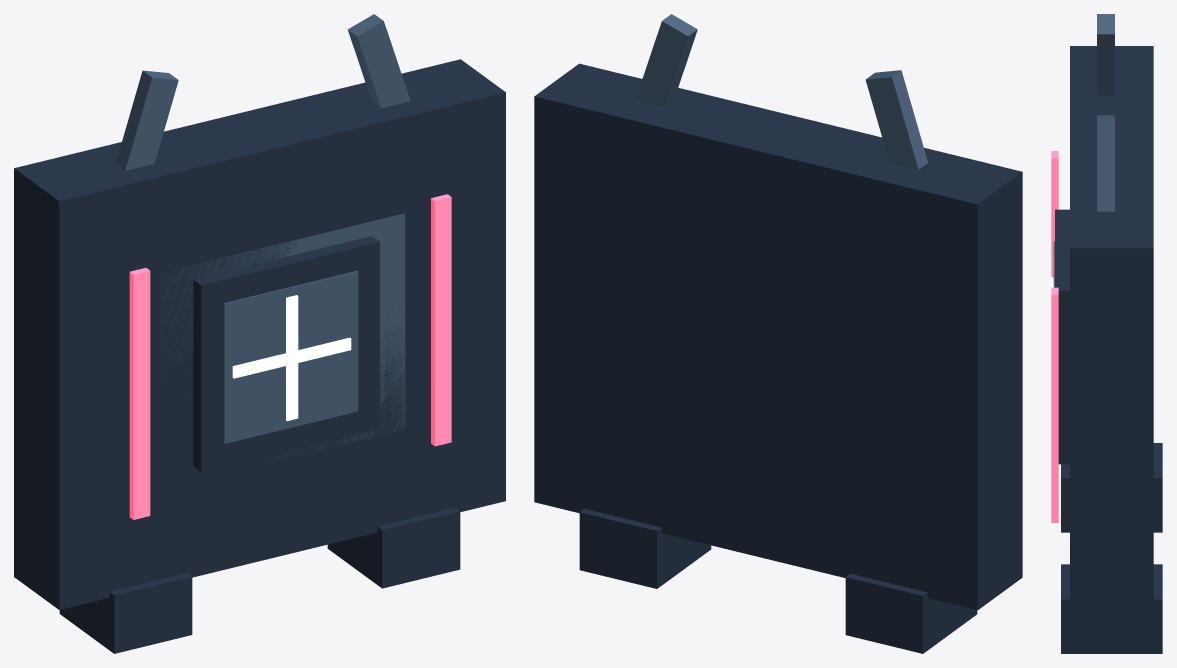
Rendered from dive_punch_wall.glb.
3 renders of one model, left to right at view 1: azimuth 30°, elevation 25°; view 2: azimuth 150°, elevation 25°; view 3: azimuth 270°, elevation 25°, orthographic. The views are drawn at different scales.
Visible parts, largest first — view 1: FRAME, TARGET_FRAME_OUTER, TARGET_FRAME_INNER, CENTER_BLOCK, FOOT_R, FOOT_L, EMISSIVE_BAR_LEFT, EMISSIVE_BAR_RIGHT, ANTENNA_L, ANTENNA_R, EMISSIVE_CROSS_H, EMISSIVE_CROSS_V; view 2: FRAME, FOOT_R, FOOT_L, ANTENNA_L, ANTENNA_R; view 3: FRAME, FOOT_R, TARGET_FRAME_OUTER, EMISSIVE_BAR_RIGHT, ANTENNA_R, FOOT_L, ANTENNA_L, EMISSIVE_BAR_LEFT.
Part boxes in pixels (box(x1,y1,x2,y2)): FRAME: box(14, 59, 505, 609); TARGET_FRAME_OUTER: box(193, 236, 379, 472); TARGET_FRAME_INNER: box(223, 270, 358, 443); CENTER_BLOCK: box(159, 213, 405, 462); FOOT_R: box(327, 507, 460, 588); FOOT_L: box(59, 573, 192, 653); EMISSIVE_BAR_LEFT: box(129, 268, 150, 519); EMISSIVE_BAR_RIGHT: box(431, 194, 451, 446); ANTENNA_L: box(115, 70, 178, 170); ANTENNA_R: box(347, 14, 410, 108); EMISSIVE_CROSS_H: box(232, 337, 351, 378); EMISSIVE_CROSS_V: box(286, 295, 298, 420); FRAME: box(534, 63, 1022, 610); FOOT_R: box(579, 508, 711, 588); FOOT_L: box(845, 573, 977, 653); ANTENNA_L: box(865, 70, 927, 169); ANTENNA_R: box(635, 14, 697, 107); FRAME: box(1070, 46, 1153, 627); FOOT_R: box(1061, 564, 1162, 653); TARGET_FRAME_OUTER: box(1055, 209, 1069, 464); EMISSIVE_BAR_RIGHT: box(1051, 287, 1058, 522); ANTENNA_R: box(1097, 115, 1114, 211); FOOT_L: box(1061, 443, 1162, 532); ANTENNA_L: box(1097, 14, 1114, 95); EMISSIVE_BAR_LEFT: box(1051, 151, 1058, 277).
Bounding box in the file's own units: 160 × 188 × 37.25.
